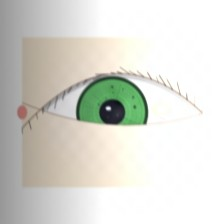pinguecula_lesion: (139, 91, 185, 127)
